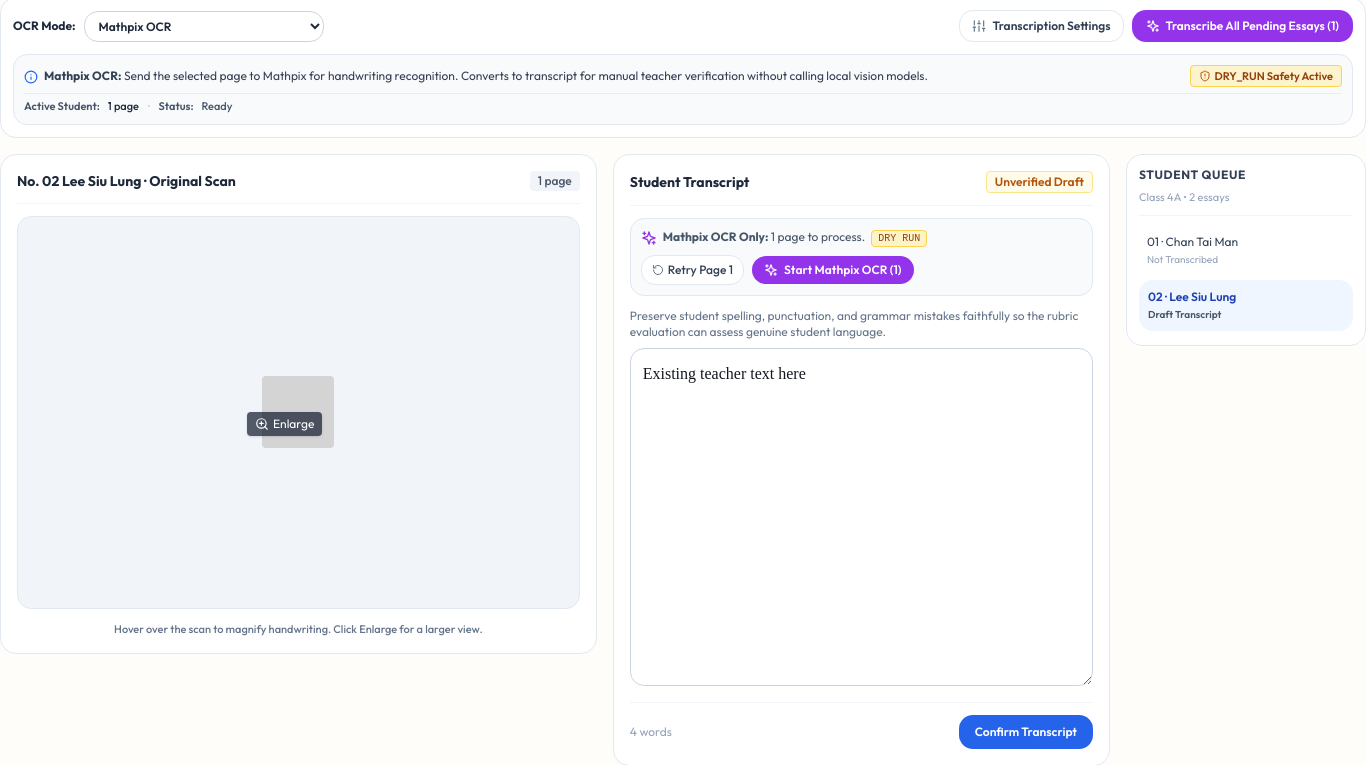
Test: Step 4: Verify Script - Mathpix OCR & Mode Selector Requirements › 5. Protection of Existing Teacher Edits › warns teacher before transcribing a student who already has edited text and preserves existing text
Expected: the text box named "Student transcript text editor" holds "Existing teacher text here", [630,348,1093,686]
# Attempt to transcribe
Click the button "Start Mathpix OCR (1)".
click(833, 270)  # box [752,256,914,284]
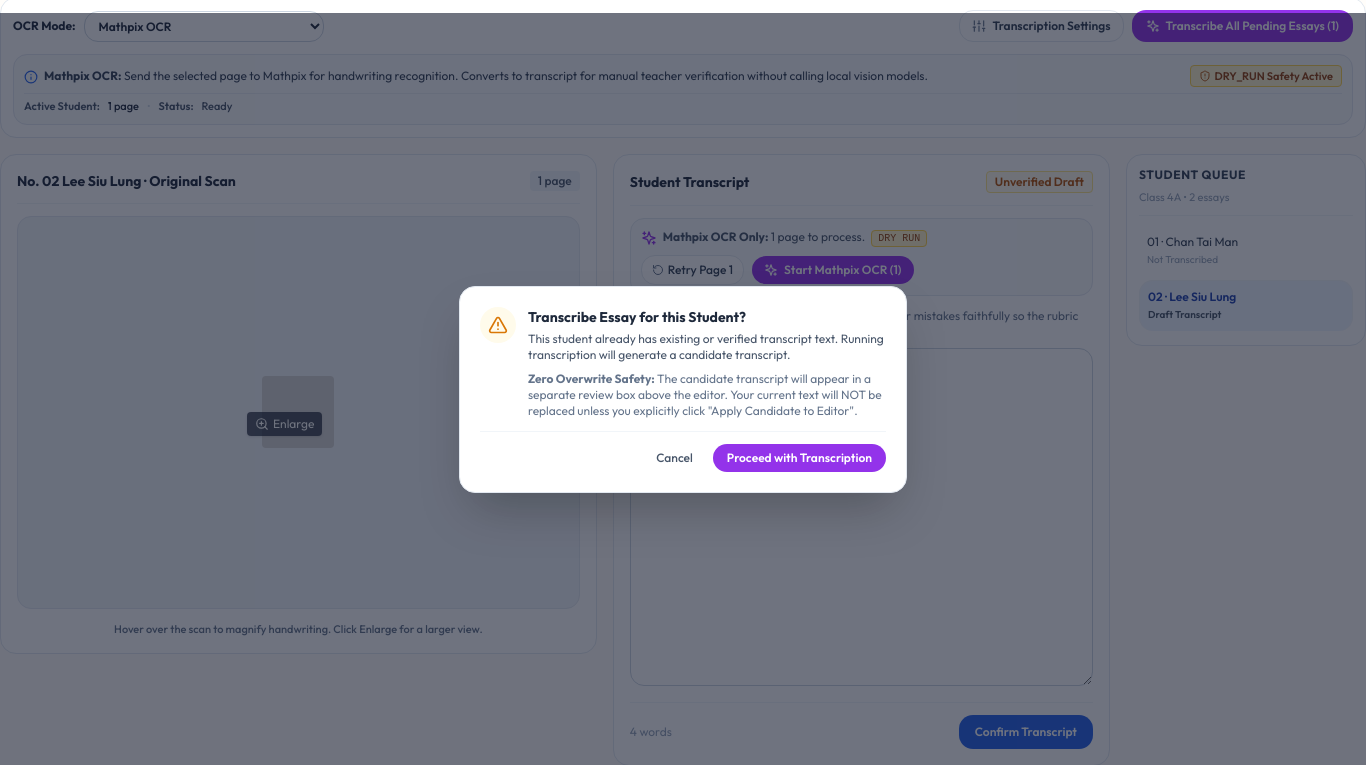
Expected: the heading "Transcribe Essay for this Student?" is shown, [528,308,746,326]
Expected: the text "Zero Overwrite Safety:" is shown, [528,370,655,386]
Click the button "Proceed with Transcription".
click(799, 458)  # box [713,444,886,472]
(page scrolled)
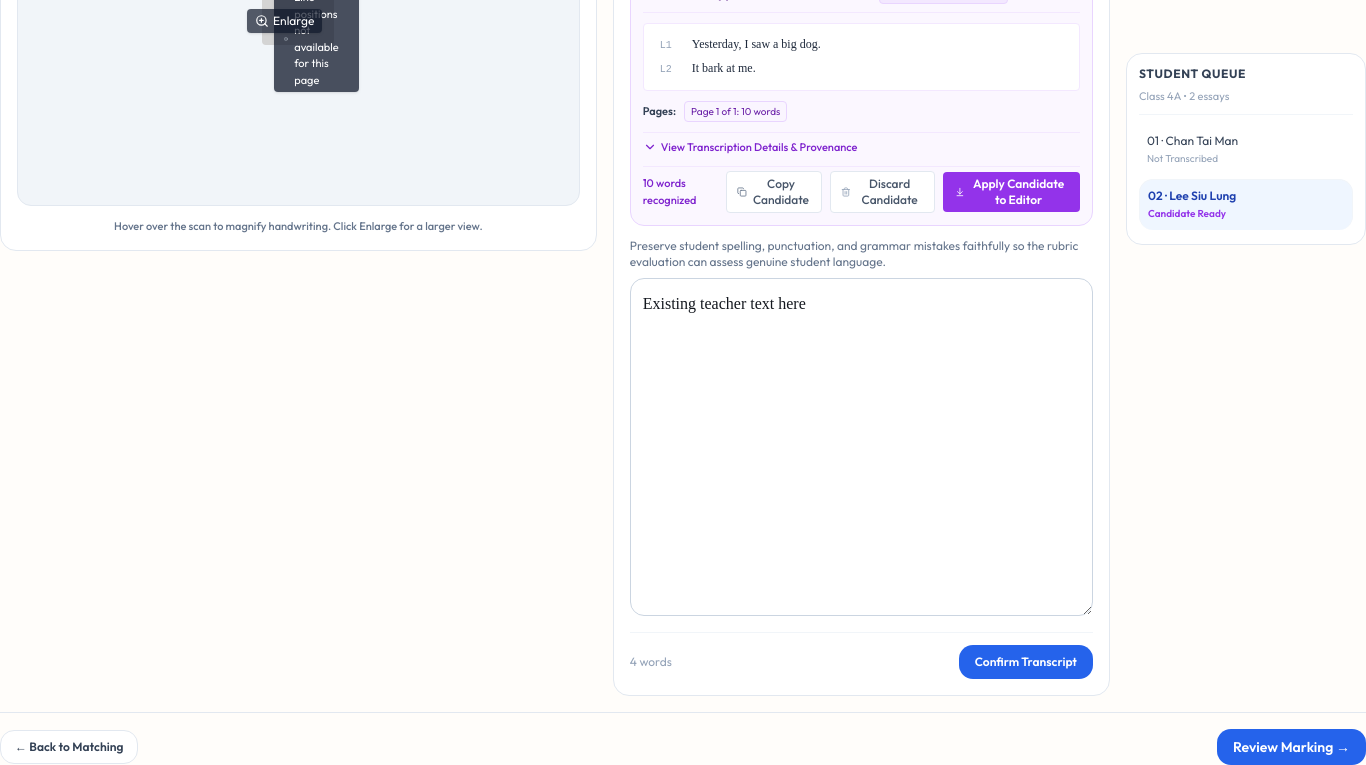
Expected: the text box named "Student transcript text editor" holds "Existing teacher text here", [630,278,1093,616]
Expected: the text "Yesterday, I saw a big dog." is shown, [692,37,821,51]
